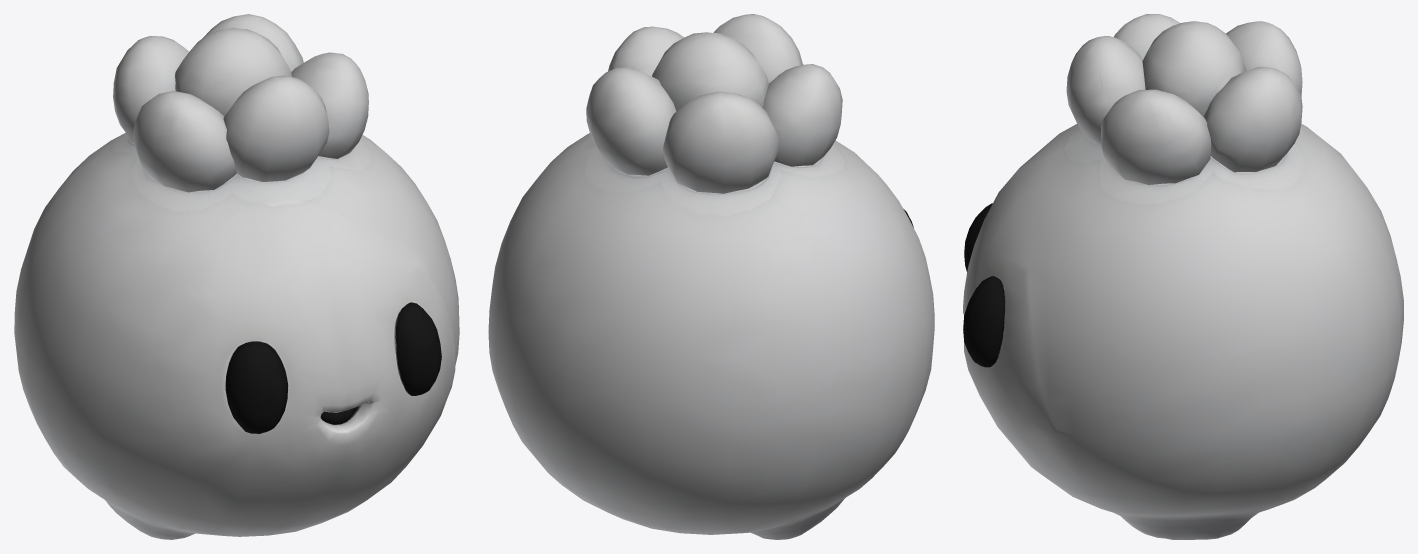
The model's file is asset_pack_item_glb-vd7d0dcraj58ycbcm7n9arqjjx8bztjr-2-ks76t3zqgcggyr7h77vv561wjh8bzf26.glb.
The picture shows the model from 3 angles, left to right: view 1: azimuth 30°, elevation 25°; view 2: azimuth 150°, elevation 25°; view 3: azimuth 270°, elevation 25°; orthographic projection.
Parts seen in each view (by area): view 1: child; view 2: child; view 3: child.
Boxes of the visible parts, x1=… form: child: x1=14, y1=14, x2=459, y2=539; child: x1=488, y1=14, x2=934, y2=539; child: x1=963, y1=14, x2=1403, y2=539.
Bounding box in the file's own units: 0.8574 × 0.998 × 0.8496.
1 material, 1 textured.
